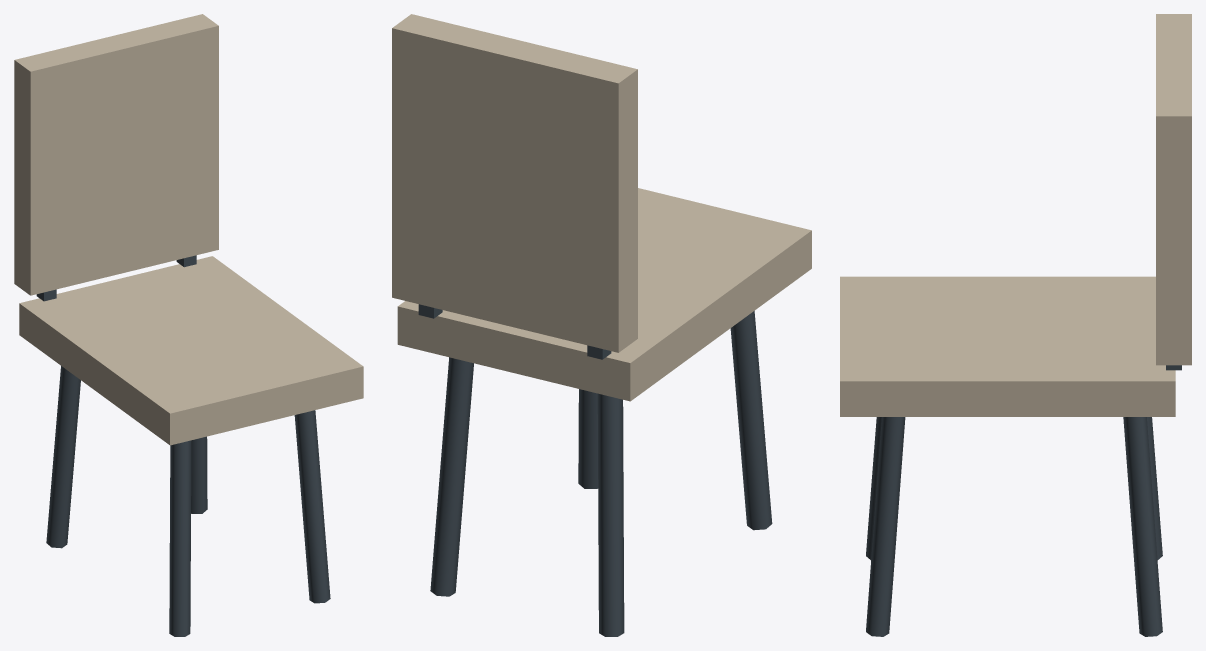
The model's file is chair-2.glb.
The picture shows the model from 3 angles, left to right: view 1: azimuth 30°, elevation 25°; view 2: azimuth 150°, elevation 25°; view 3: azimuth 270°, elevation 25°; orthographic projection. The views are drawn at different scales.
Visible parts, largest first — view 1: chair:2:editor; view 2: chair:2:editor; view 3: chair:2:editor.
Part boxes in pixels (x1=…): chair:2:editor: x1=14, y1=14, x2=363, y2=636; chair:2:editor: x1=392, y1=14, x2=811, y2=636; chair:2:editor: x1=840, y1=14, x2=1191, y2=636.
Size of the model in its own units: 0.3812 by 0.8982 by 0.54.
